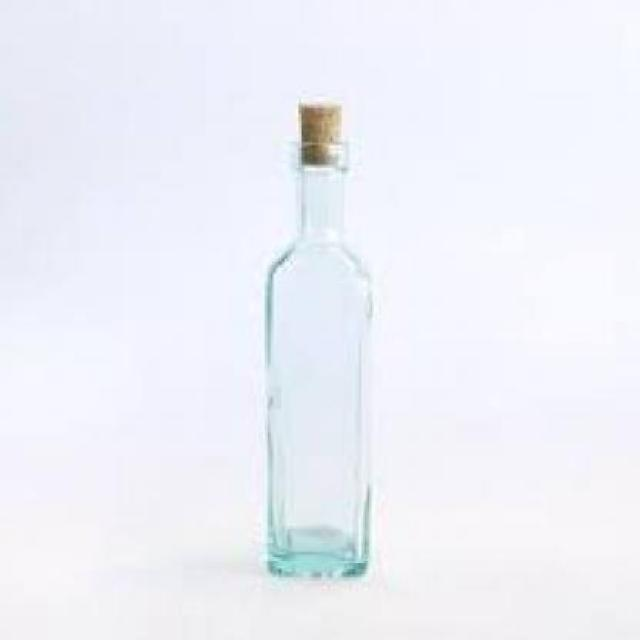kaca: (265, 140, 366, 575)
